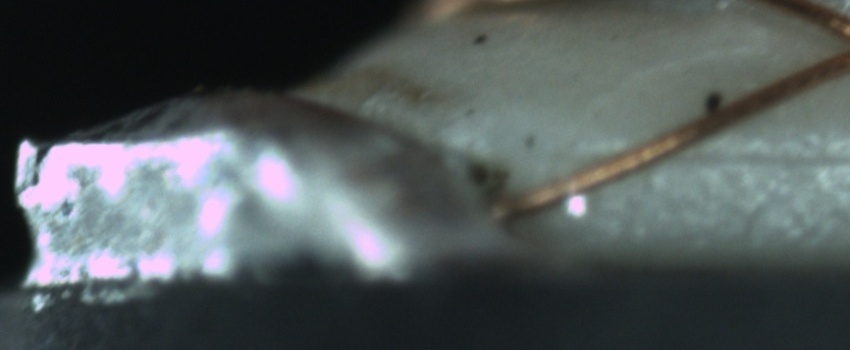CL: (808, 9, 850, 82)
DL: (618, 121, 847, 191)
